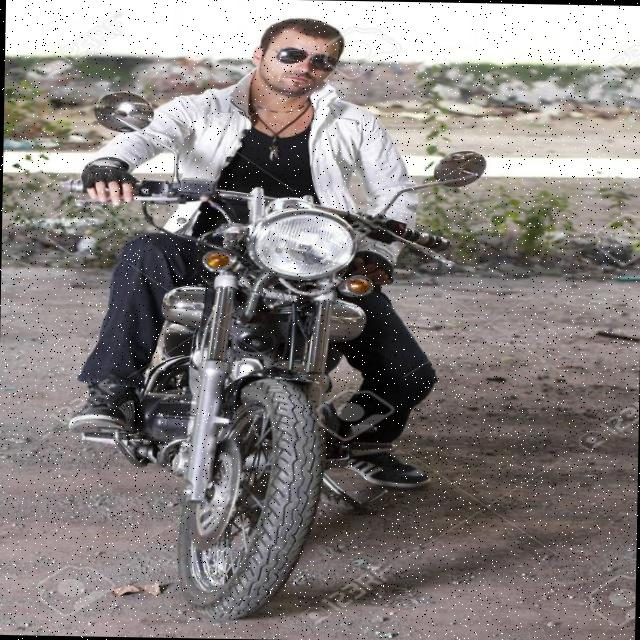No helmet: (248, 4, 352, 135)
